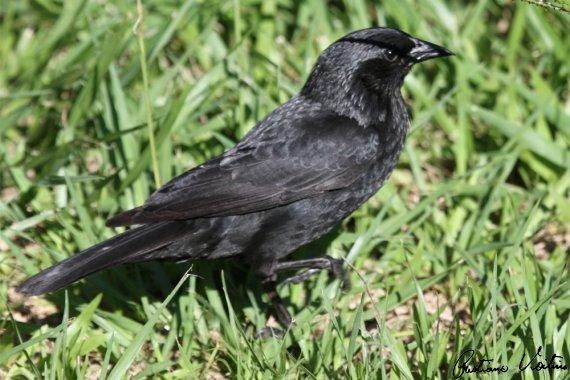grauna: (15, 25, 456, 333)
